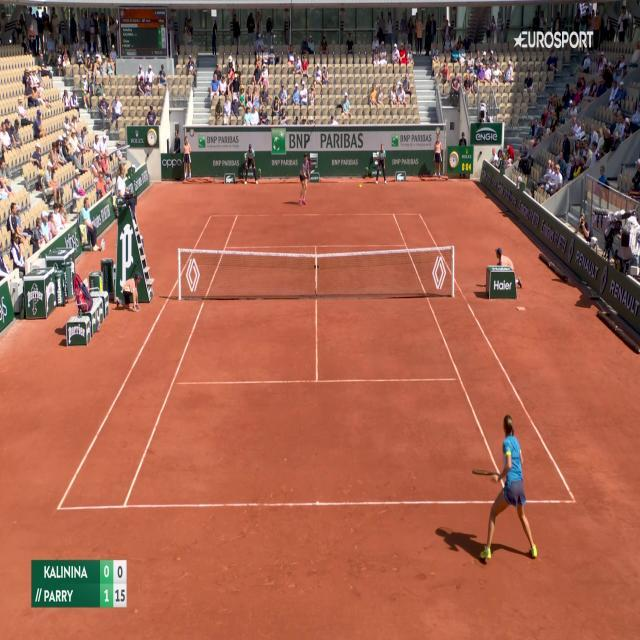left side: (58, 216, 237, 508), (393, 214, 574, 502)
player: (478, 412, 538, 563), (298, 151, 310, 208)
